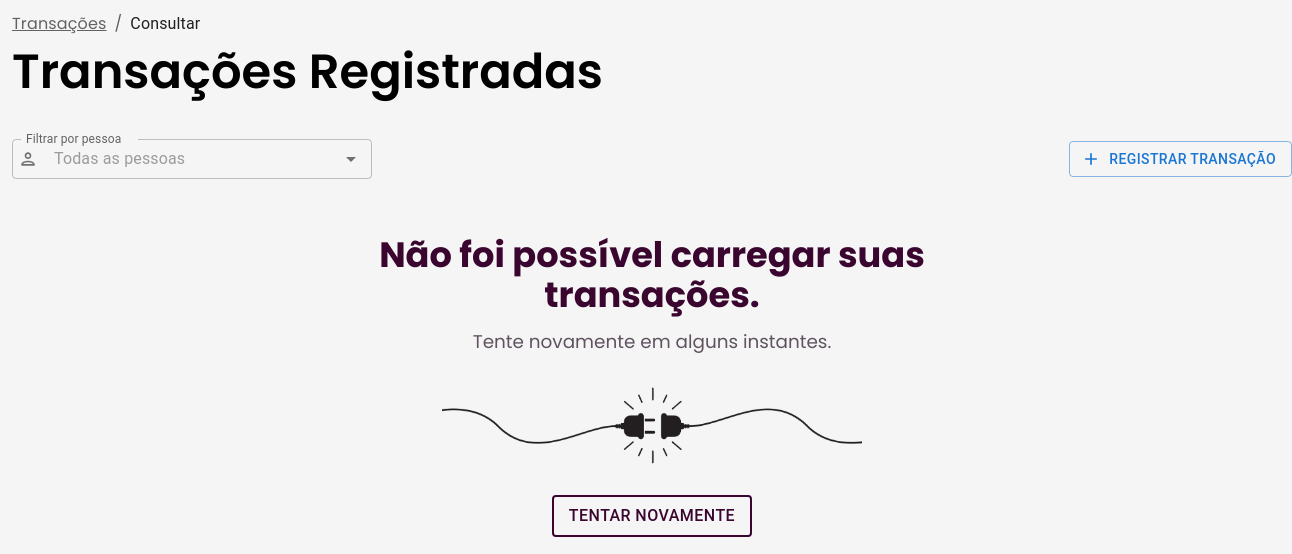
Test: TransactionsConsultPage › exibe erro e permite tentar novamente
Check: the heading "Não foi possível carregar suas transações." is shown, box [379, 230, 925, 319]
Click the button "Tentar novamente" at (652, 516), box [552, 495, 752, 537]
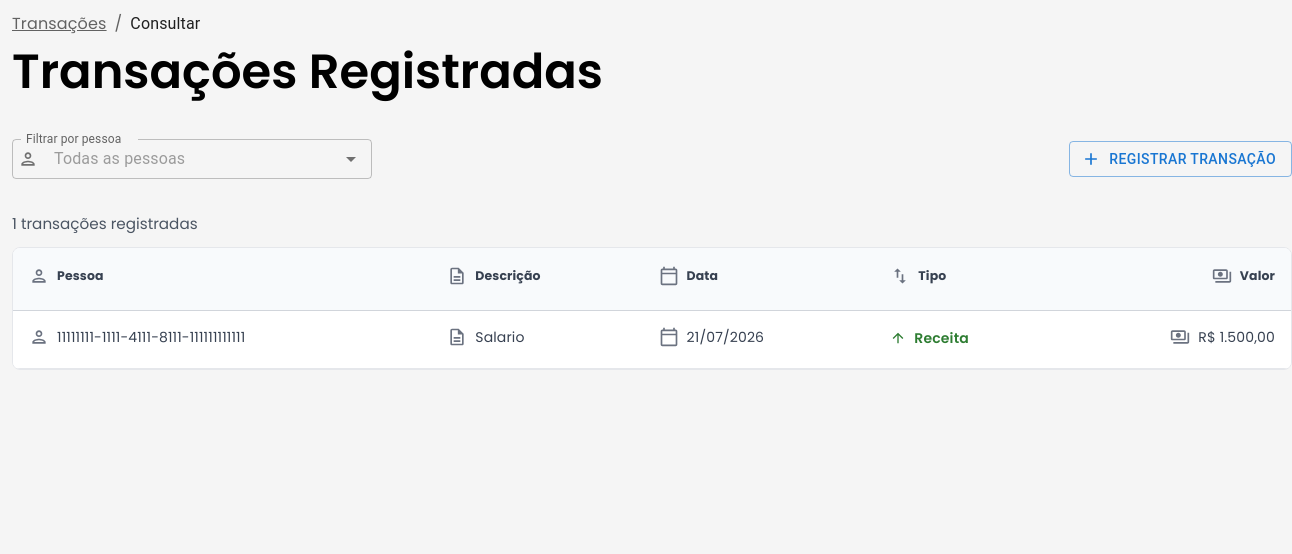
Check: the text "11111111-1111-4111-8111-111111111111" is shown, box [57, 327, 245, 347]
